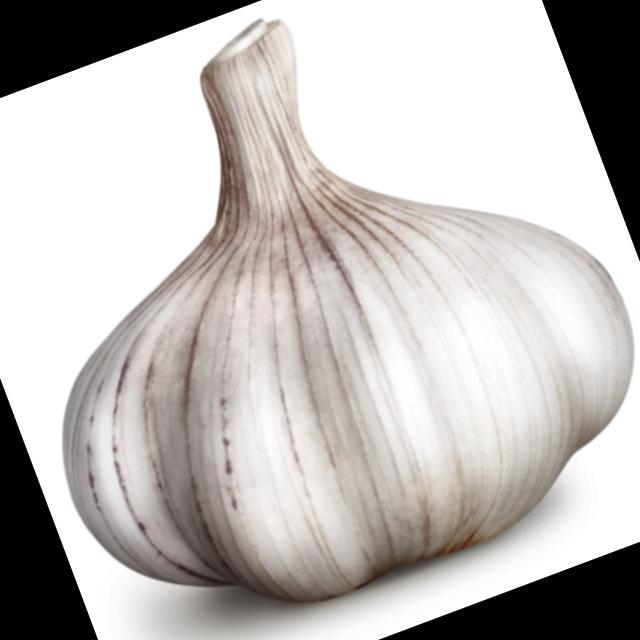garlic: (65, 20, 632, 599)
